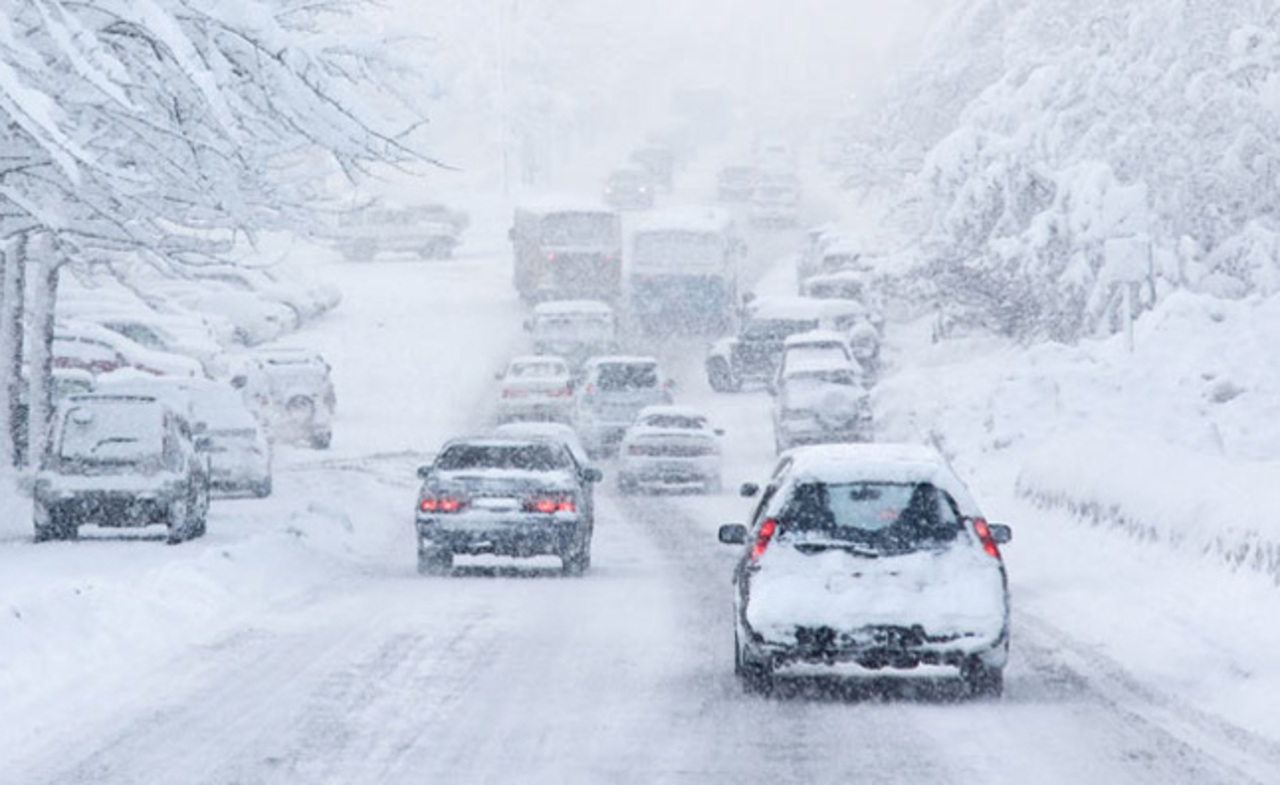bus: (625, 207, 738, 336), (520, 208, 618, 309)
car: (720, 444, 1017, 701), (28, 389, 208, 545), (414, 429, 598, 580), (138, 376, 270, 493), (705, 303, 877, 380), (228, 346, 335, 448), (617, 412, 727, 496), (312, 203, 455, 264), (571, 358, 673, 439), (766, 370, 872, 444), (57, 323, 197, 372), (99, 311, 222, 365), (158, 280, 273, 334), (205, 265, 310, 318), (496, 356, 575, 420), (769, 343, 865, 386), (252, 260, 339, 305), (744, 184, 797, 220), (602, 166, 653, 202), (631, 144, 671, 183), (715, 166, 756, 199)
